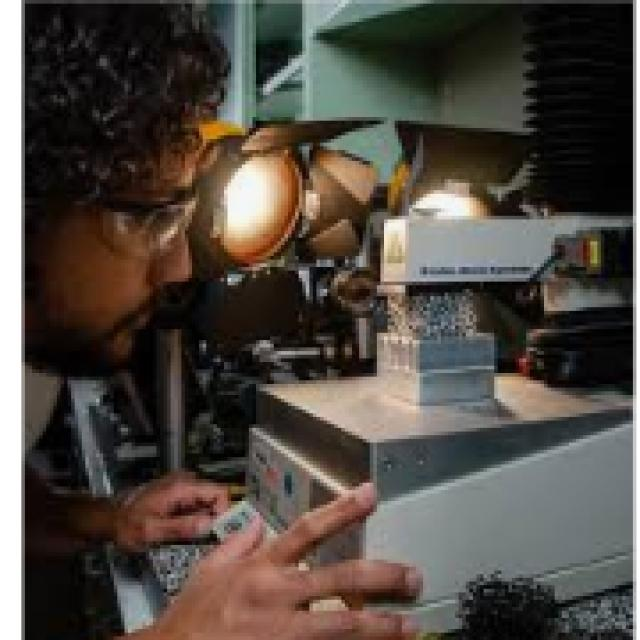glasses: (79, 177, 232, 252)
